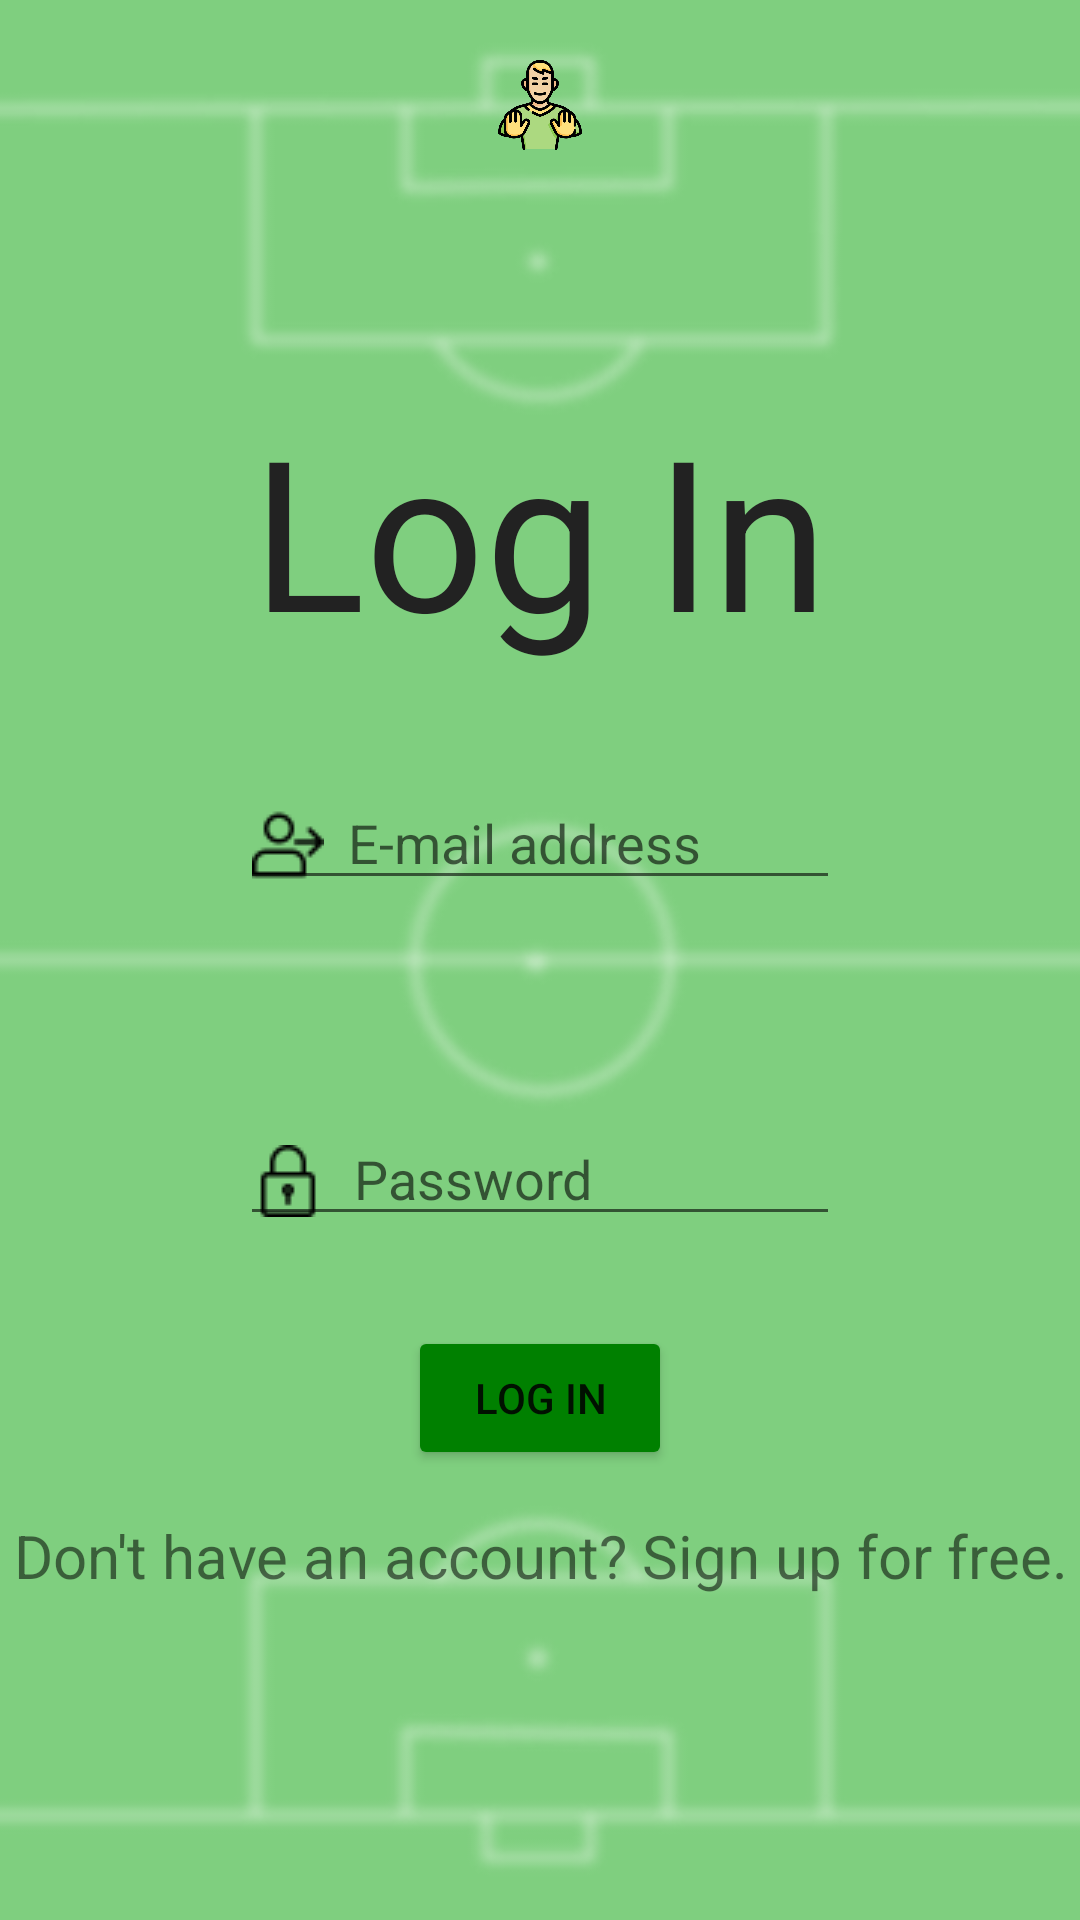

Where to tap for icons on this 1080px×1920px app screen, as [x,y]:
goalkeeper: [540,105]
